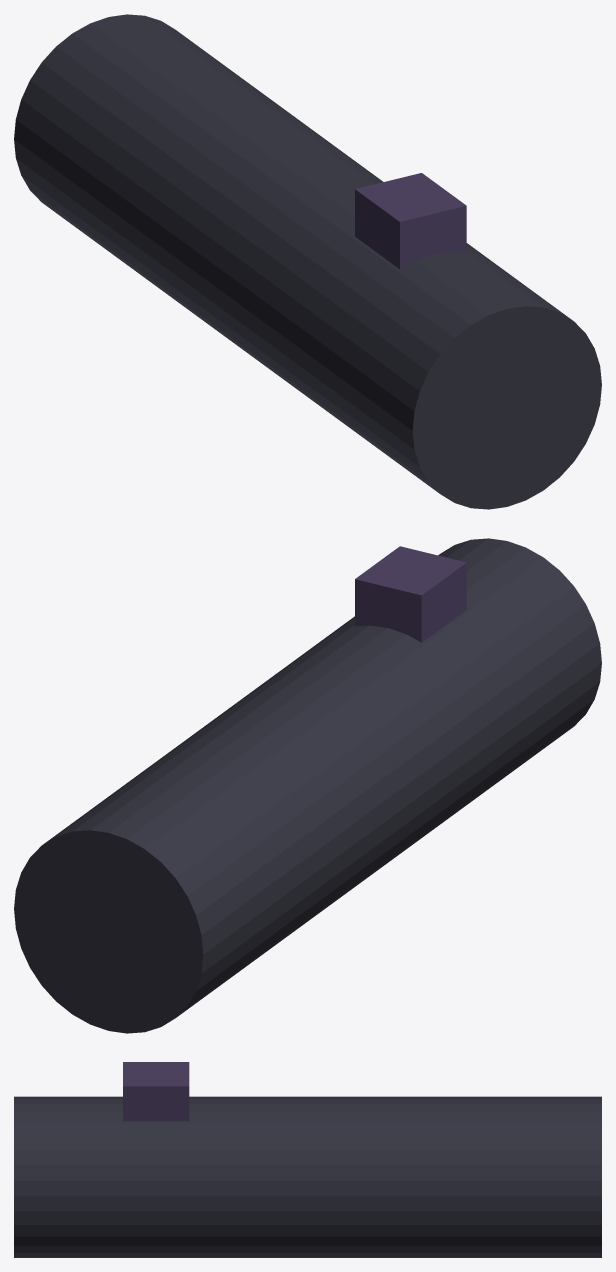
File: CH_BathysSubmarine_LOD1.glb
3 views of the same model, one above another, from view 1: azimuth 30°, elevation 25°; view 2: azimuth 150°, elevation 25°; view 3: azimuth 270°, elevation 25° (orthographic). The views are drawn at different scales.
Parts seen in each view (by area): view 1: Cylinder, Cube; view 2: Cylinder, Cube; view 3: Cylinder, Cube.
Part boxes in pixels (x1,y1,x2,y2): Cylinder: [14, 14, 601, 509]; Cube: [355, 173, 466, 269]; Cylinder: [14, 538, 601, 1033]; Cube: [355, 546, 466, 642]; Cylinder: [14, 1096, 601, 1257]; Cube: [123, 1062, 189, 1121].
Size of what is drawn, in the model's own units: 1.7 by 2.05 by 6.2.
